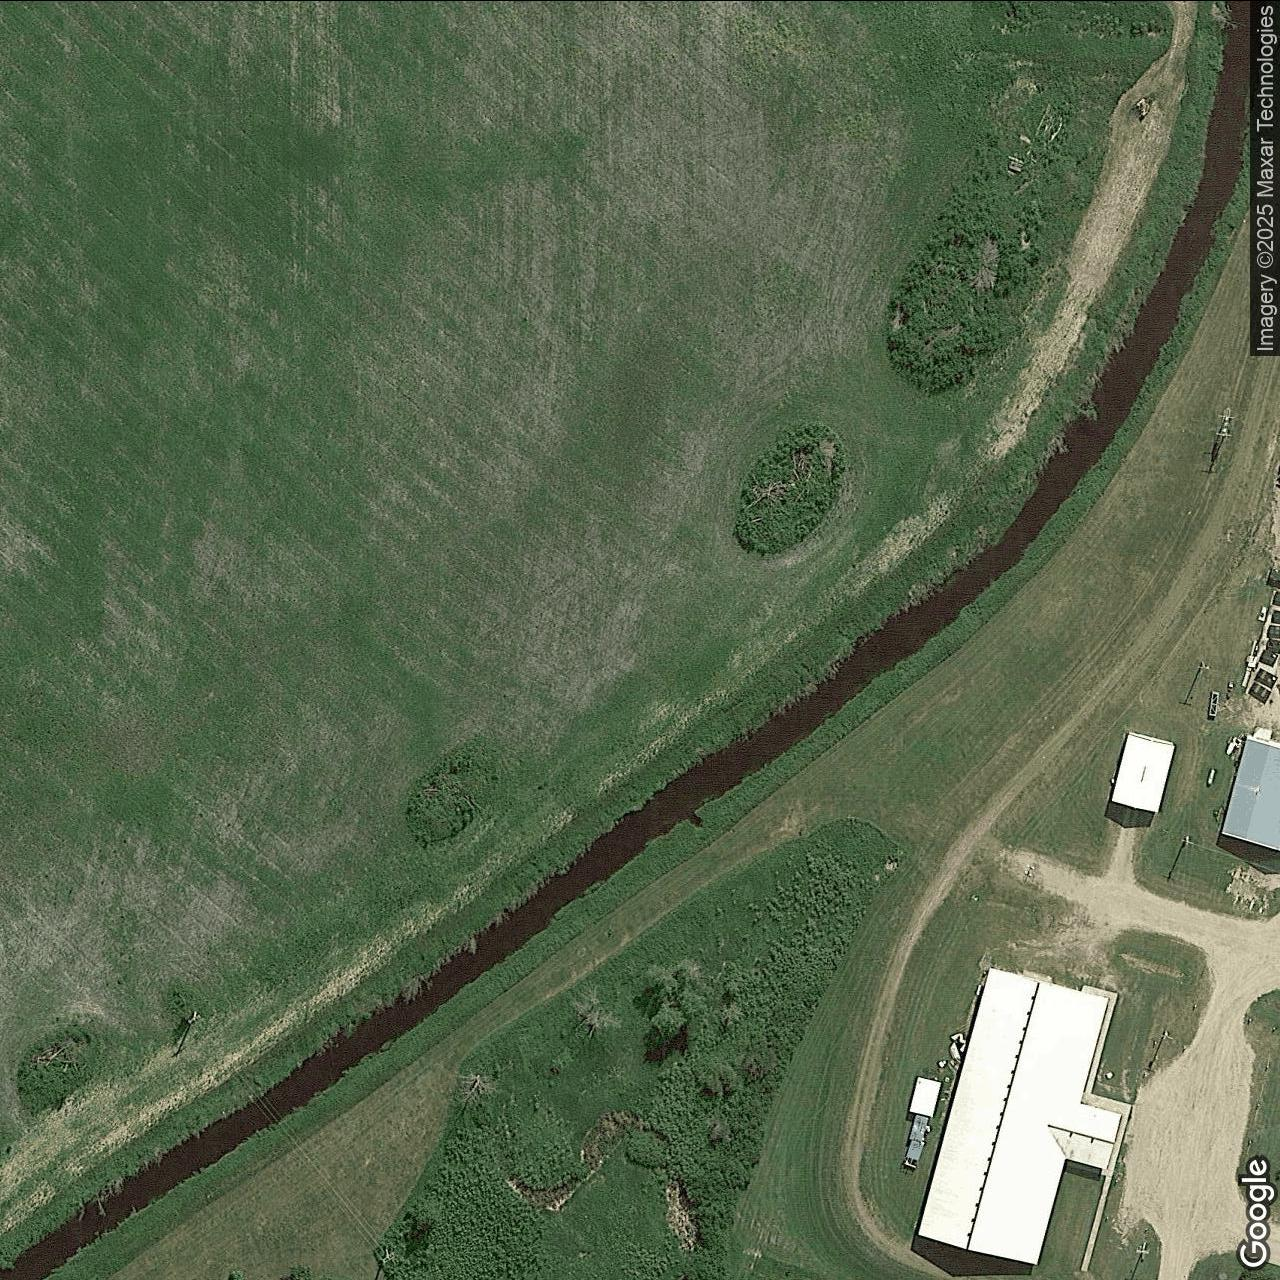Other: (918, 966, 1123, 1265), (1221, 734, 1279, 852), (1111, 730, 1175, 811)
